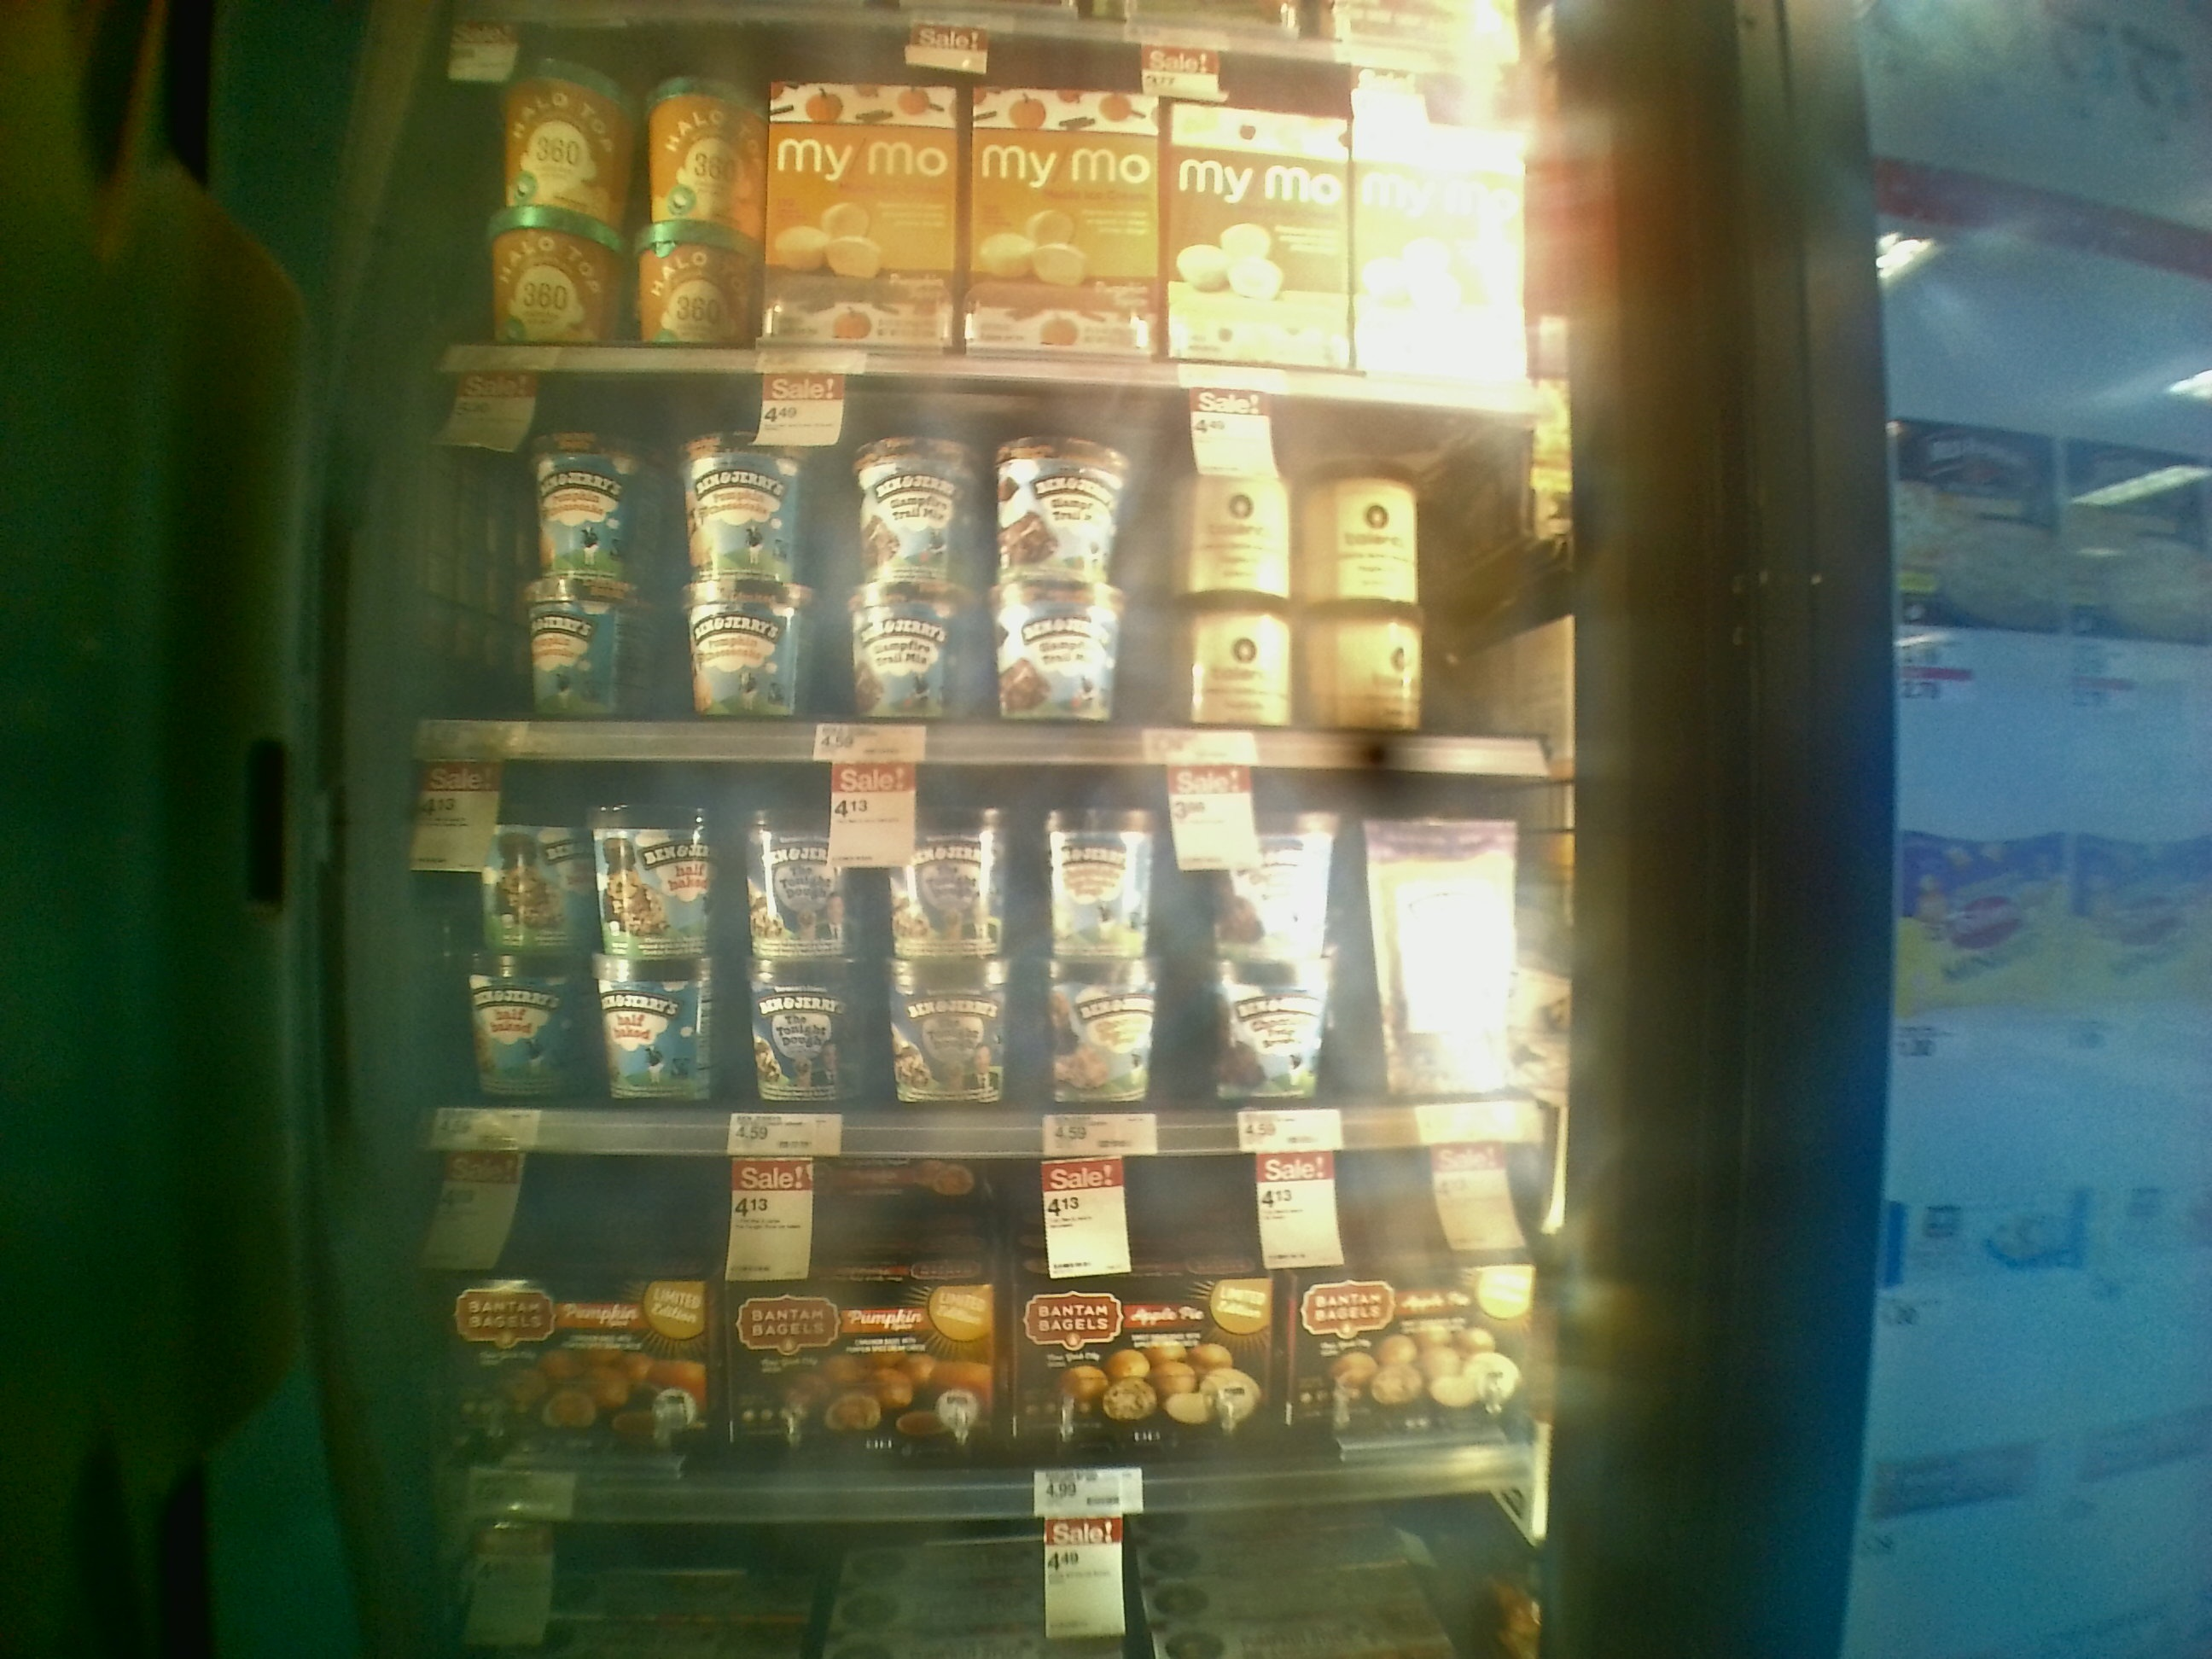shelf: (402, 755, 1561, 1161), (420, 369, 1575, 775), (402, 1148, 1548, 1502)
